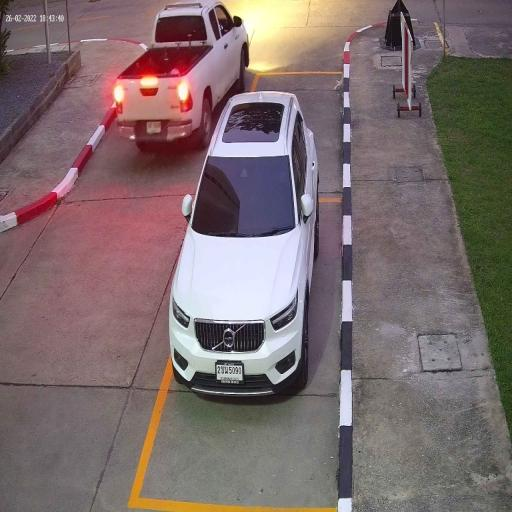car: (166, 88, 322, 403), (112, 0, 252, 149)
